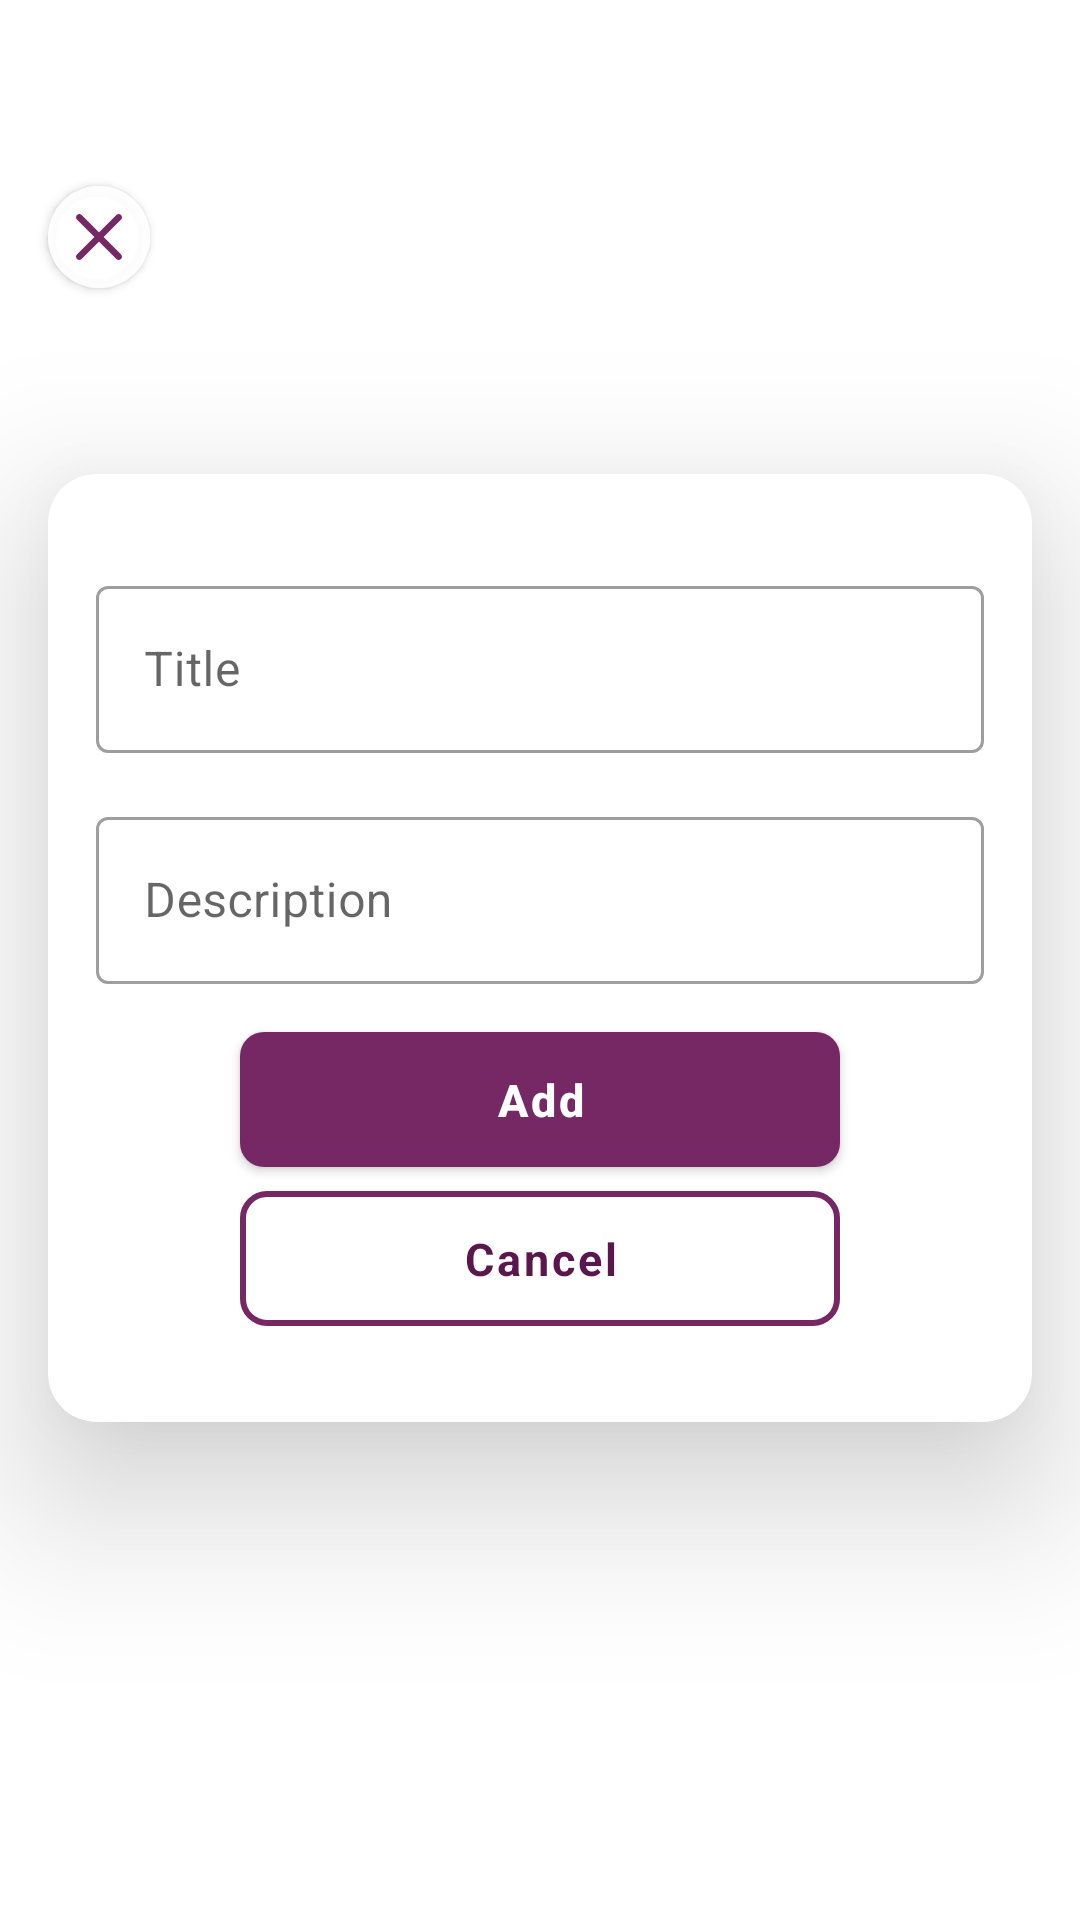

Locate icon controls on the screen. Image size 1080×1920, boxes as (x1, y1, x2, y2).
close: (48, 194, 122, 288)
